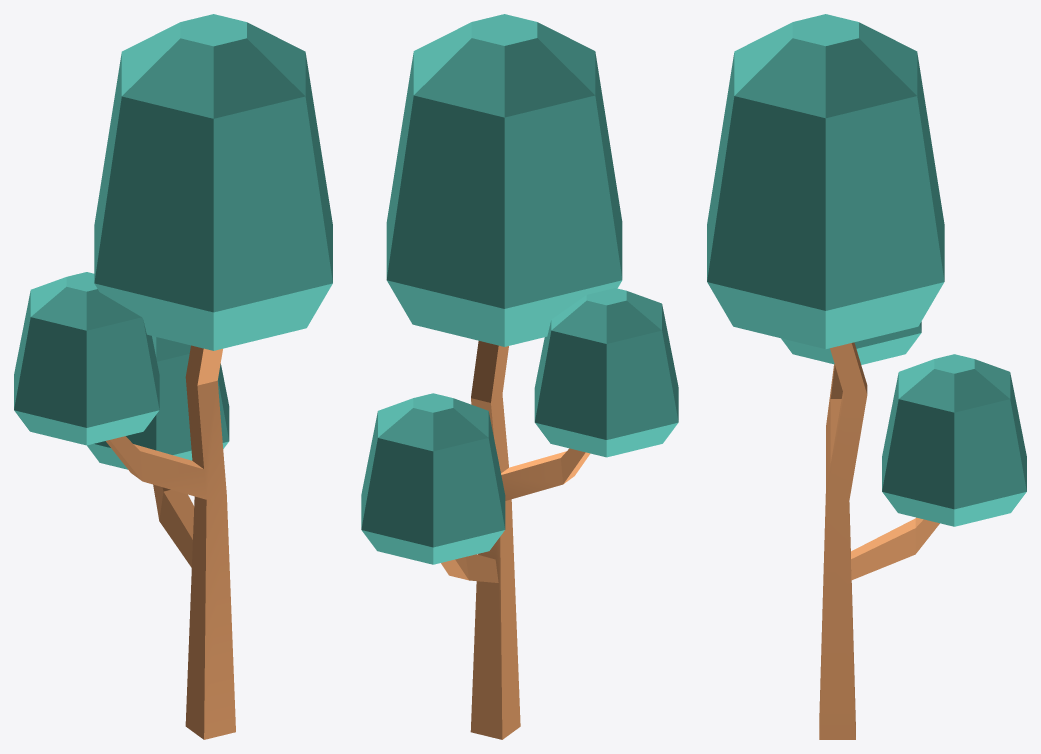
File: tree_thin.obj
3 renders of one model, left to right at view 1: azimuth 30°, elevation 25°; view 2: azimuth 150°, elevation 25°; view 3: azimuth 270°, elevation 25°, orthographic.
Parts seen in each view (by area): view 1: tree_thin; view 2: tree_thin; view 3: tree_thin.
Part boxes in pixels (x1,y1,x2,y2): tree_thin: (14, 14, 332, 739); tree_thin: (361, 14, 678, 739); tree_thin: (707, 14, 1026, 739).
Size of the model in its own units: 6.8 by 14.9 by 6.17.
